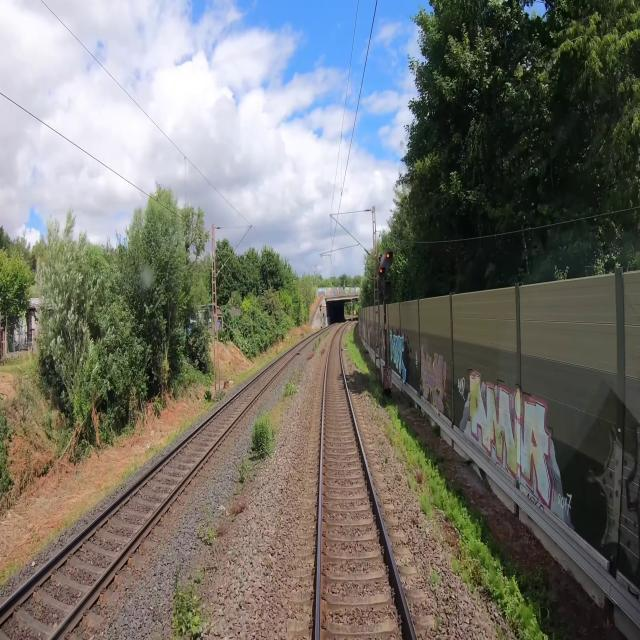Plant: (234, 375, 297, 495), (171, 572, 204, 639), (450, 554, 479, 594), (196, 508, 215, 547), (384, 423, 403, 450), (418, 492, 435, 520), (229, 495, 246, 516), (429, 568, 439, 587), (407, 475, 418, 492), (312, 335, 322, 352), (435, 615, 443, 628), (497, 625, 504, 639), (398, 452, 402, 462)
